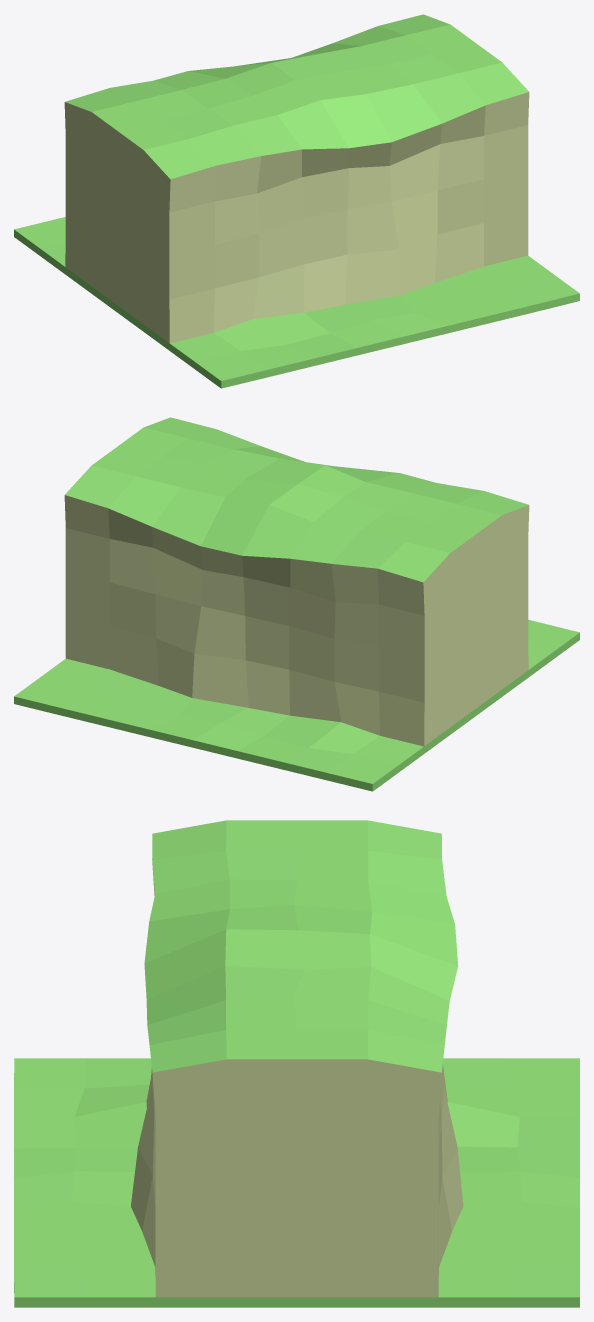
File: wall_slim_extend_1.glb
The picture shows the model from 3 angles, top to bottom: view 1: azimuth 30°, elevation 25°; view 2: azimuth 150°, elevation 25°; view 3: azimuth 270°, elevation 25°; orthographic projection. The views are drawn at different scales.
Visible parts, largest first — view 1: wall_slim_extend_1; view 2: wall_slim_extend_1; view 3: wall_slim_extend_1.
Boxes of the visible parts, x1=… form: wall_slim_extend_1: x1=14, y1=14, x2=579, y2=388; wall_slim_extend_1: x1=14, y1=417, x2=579, y2=791; wall_slim_extend_1: x1=14, y1=820, x2=579, y2=1307.
Size of the model in its own units: 2 by 1 by 2.
